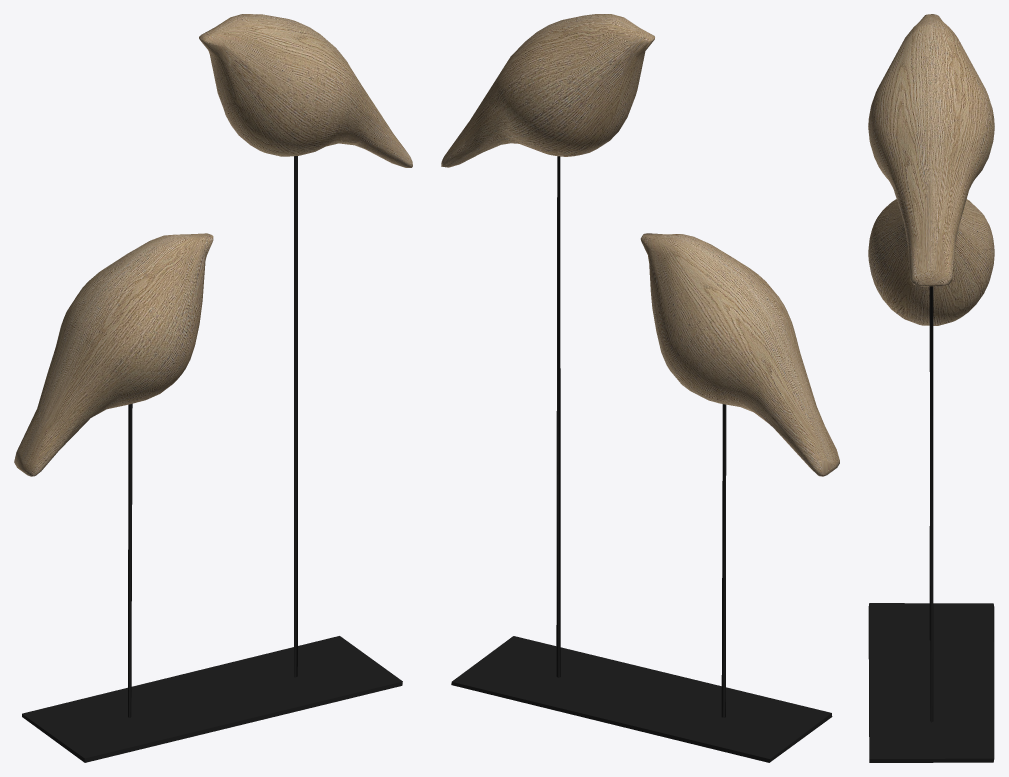
Rendered from Figure 1.FBX.
The picture shows the model from 3 angles, left to right: view 1: azimuth 30°, elevation 25°; view 2: azimuth 150°, elevation 25°; view 3: azimuth 270°, elevation 25°; orthographic projection.
Visible parts, largest first — view 1: Figure 1; view 2: Figure 1; view 3: Figure 1.
Part boxes in pixels (x1,y1,x2,y2): Figure 1: [14, 14, 412, 762]; Figure 1: [441, 14, 839, 762]; Figure 1: [868, 14, 994, 762].
Size of the model in its own units: 36.28 by 10.35 by 60.95.
Materials: 1 (1 with a texture image).
